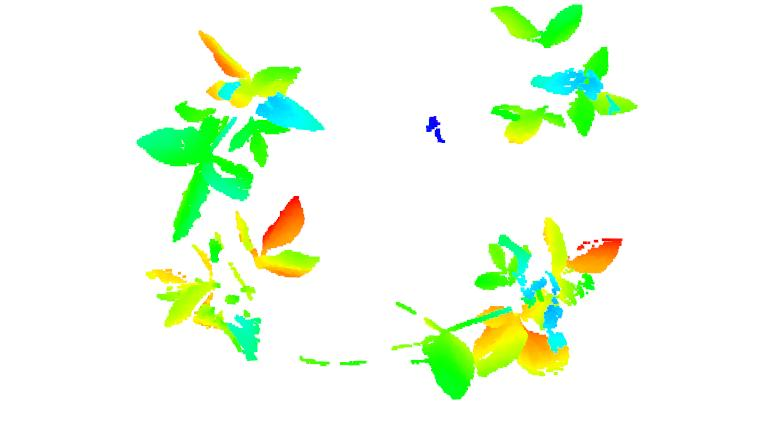mungbean: (386, 213, 638, 404), (136, 24, 331, 249), (140, 194, 332, 361), (484, 5, 641, 148)
